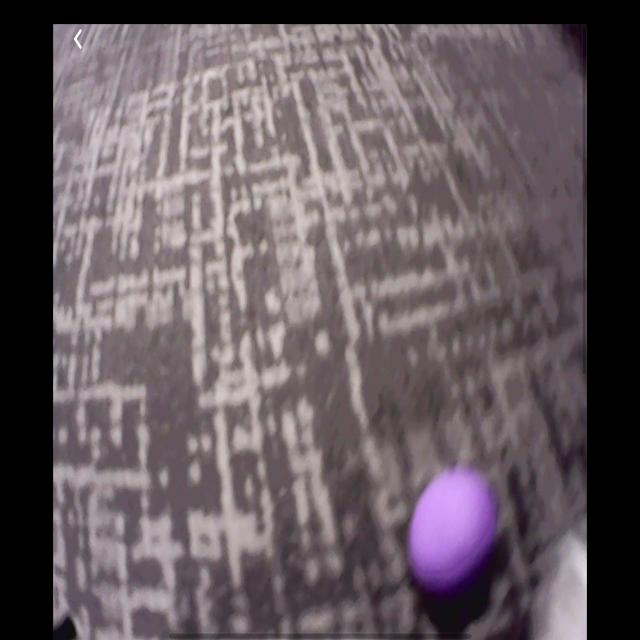ball: (412, 470, 497, 589)
